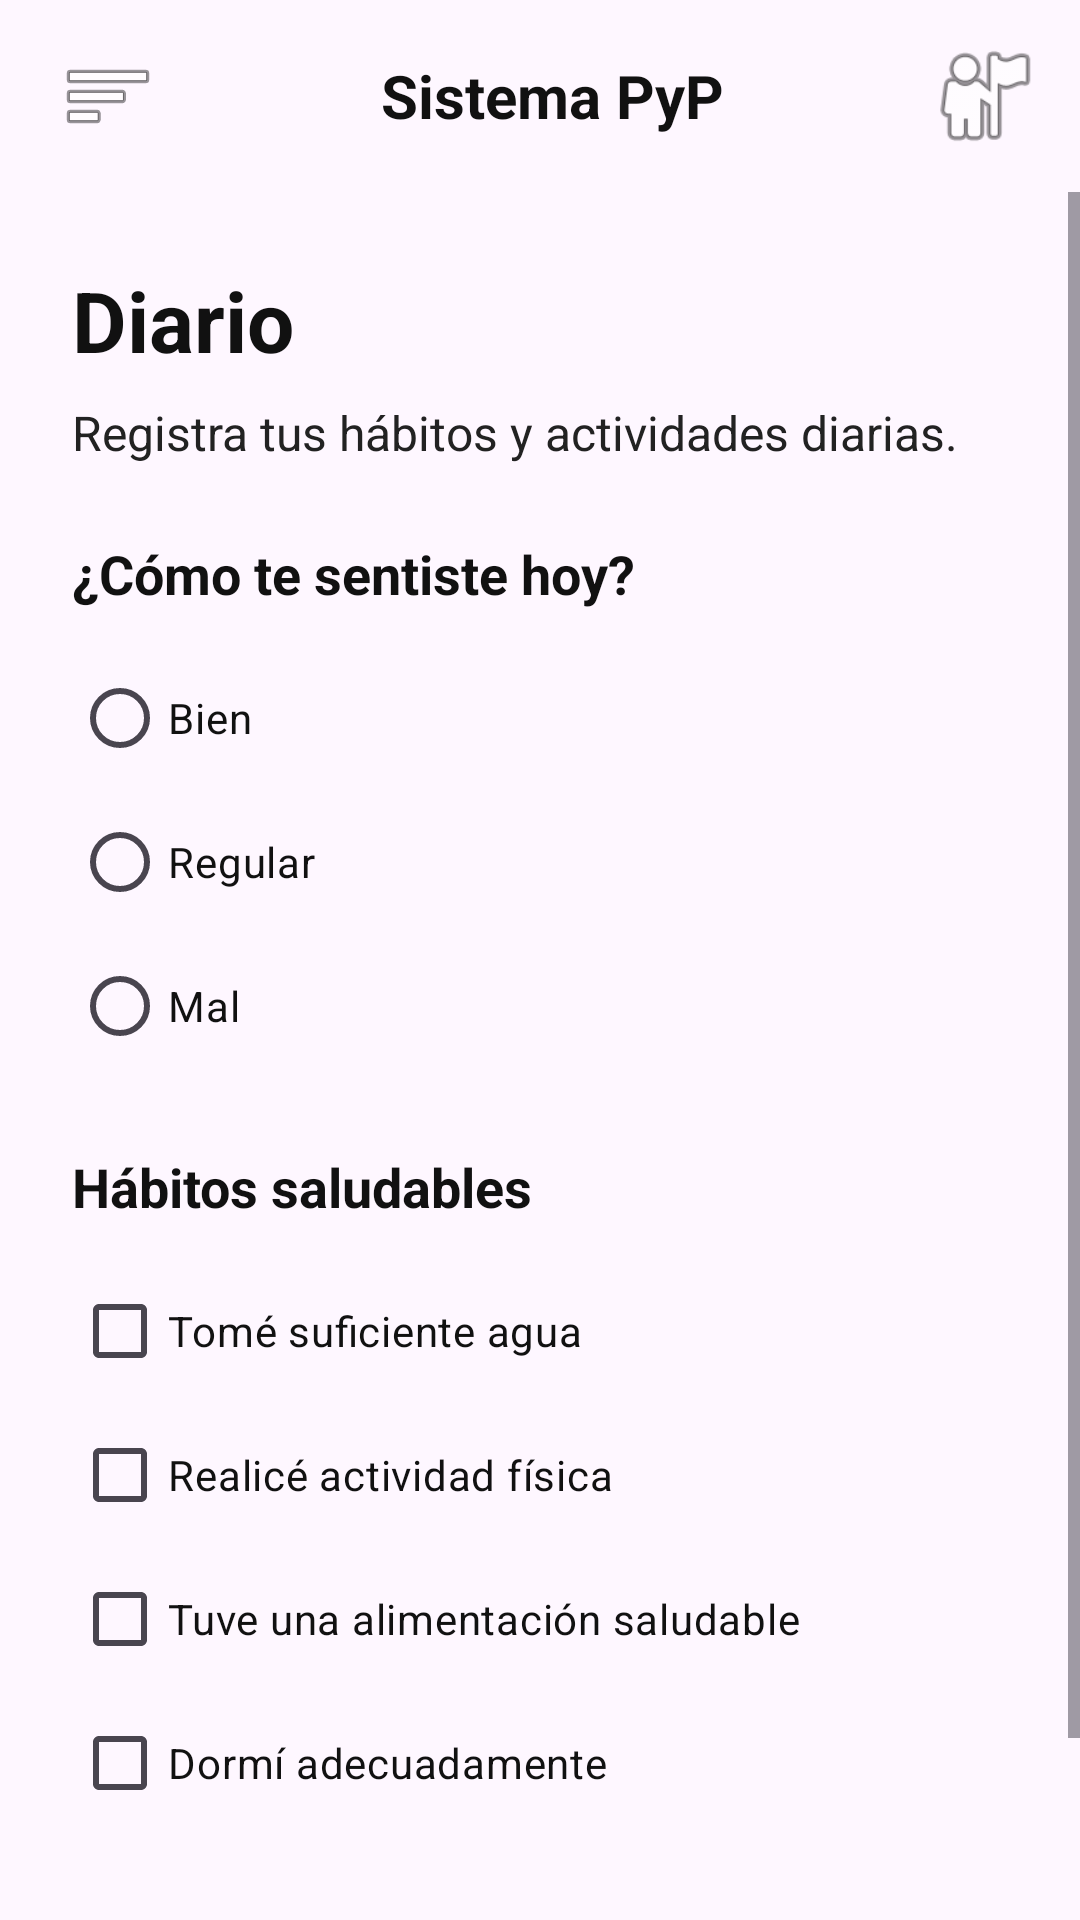

Screen size 1080px x 1920px. Icon name, then its center in pixels as (x,y):
Abrir menú: (108,96)
Perfil: (985,96)
